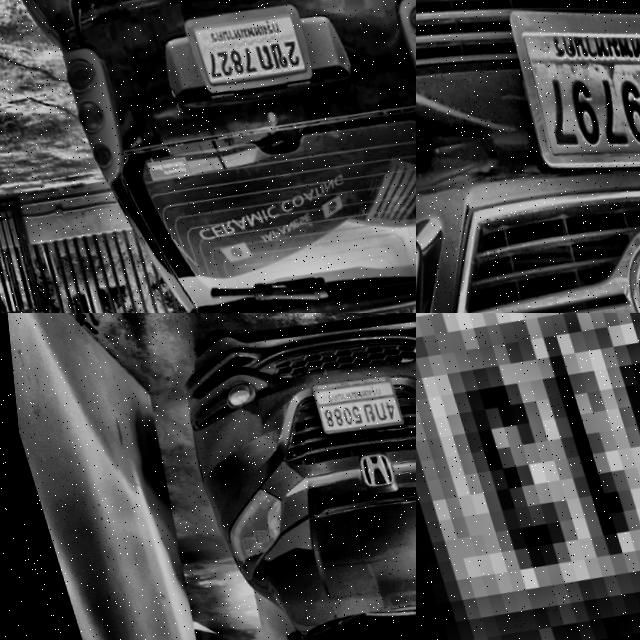license-plate: (416, 313, 640, 640), (488, 0, 640, 202), (172, 0, 316, 100), (300, 362, 401, 442)
